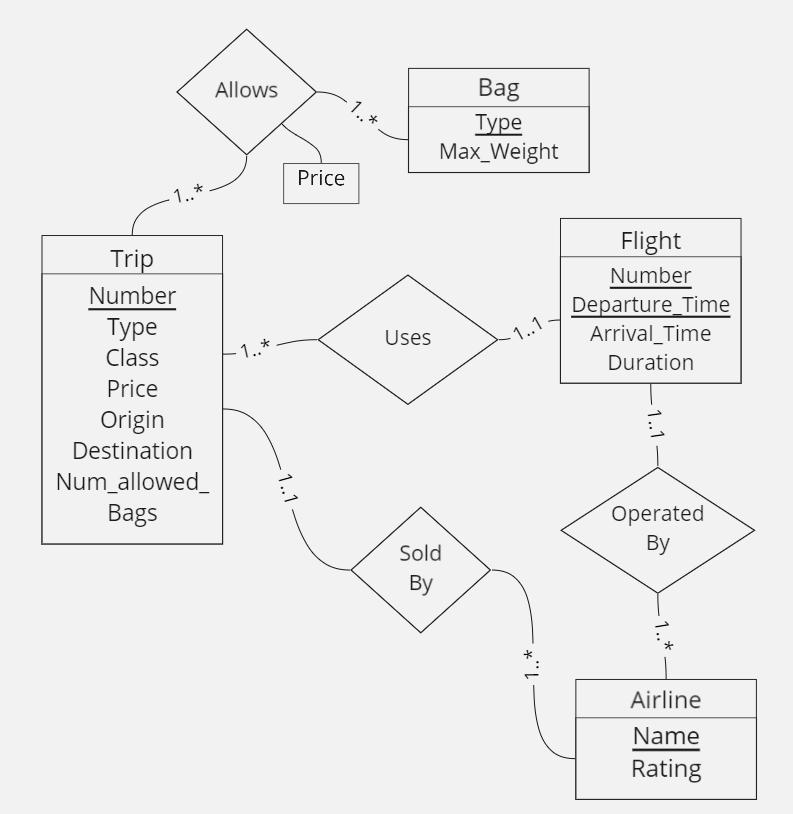attribute: (280, 162, 363, 206)
entity: (39, 232, 224, 550), (560, 217, 742, 387), (574, 676, 761, 801), (406, 69, 590, 176)
relationship: (563, 468, 760, 591), (318, 276, 491, 403), (175, 29, 316, 156), (351, 508, 490, 636)
